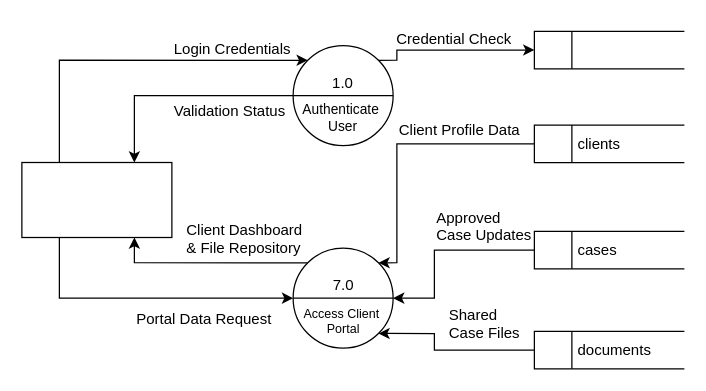
The diagram is 706 pixels wide and 391 high, and some of its shapes have lost their labels. Each missing label, with the centre of its shape:
auth_users: the point at 608,49
Client: the point at 96,199
